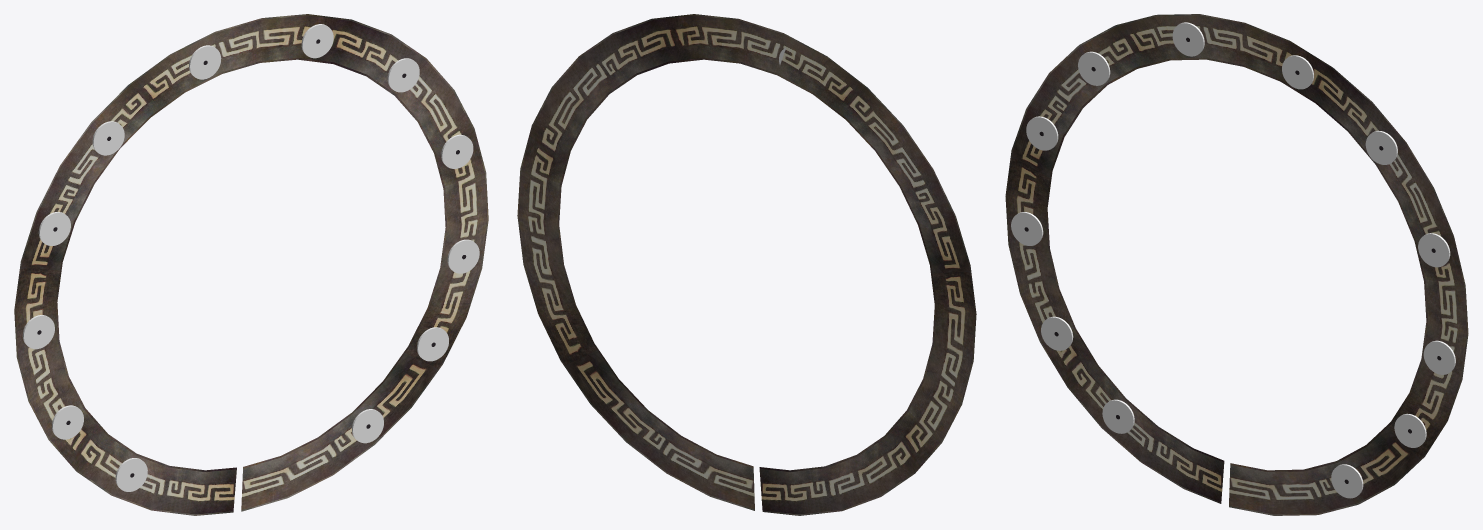
Rendered from khari-circle.dae.
The picture shows the model from 3 angles, left to right: view 1: azimuth 30°, elevation 25°; view 2: azimuth 150°, elevation 25°; view 3: azimuth 330°, elevation 25°; orthographic projection.
Parts seen in each view (by area): view 1: Plane, hotspot-8, hotspot-5, hotspot-10, hotspot-9, hotspot-7, hotspot-3, hotspot-4, hotspot-1, hotspot-12, hotspot-11, hotspot-2 (+1 smaller); view 2: Plane; view 3: Plane, hotspot-6, hotspot-12, hotspot-1, hotspot-4, hotspot-10, hotspot-9, hotspot-11, hotspot-8, hotspot-7, hotspot-2, hotspot-5 (+1 smaller).
Part boxes in pixels (bbox=[...]): Plane: bbox=[14, 14, 488, 515]; hotspot-8: bbox=[387, 58, 419, 92]; hotspot-5: bbox=[92, 121, 124, 155]; hotspot-10: bbox=[447, 239, 479, 273]; hotspot-9: bbox=[441, 134, 473, 168]; hotspot-7: bbox=[301, 24, 333, 58]; hotspot-3: bbox=[22, 315, 54, 349]; hotspot-4: bbox=[38, 212, 70, 245]; hotspot-1: bbox=[115, 458, 147, 491]; hotspot-12: bbox=[352, 409, 383, 443]; hotspot-11: bbox=[417, 327, 448, 361]; hotspot-2: bbox=[51, 405, 83, 439]; Plane: bbox=[517, 14, 976, 515]; Plane: bbox=[1005, 14, 1468, 515]; hotspot-6: bbox=[1172, 22, 1204, 56]; hotspot-12: bbox=[1331, 464, 1363, 498]; hotspot-1: bbox=[1102, 399, 1134, 433]; hotspot-4: bbox=[1026, 116, 1058, 150]; hotspot-10: bbox=[1423, 340, 1455, 374]; hotspot-9: bbox=[1418, 233, 1450, 267]; hotspot-11: bbox=[1394, 413, 1426, 447]; hotspot-8: bbox=[1365, 130, 1397, 164]; hotspot-7: bbox=[1282, 55, 1313, 89]; hotspot-2: bbox=[1041, 316, 1073, 350]; hotspot-5: bbox=[1078, 51, 1110, 85].
Bounding box in the file's own units: 4.1 × 0.123 × 4.1.
Materials: 3 (1 with a texture image).
